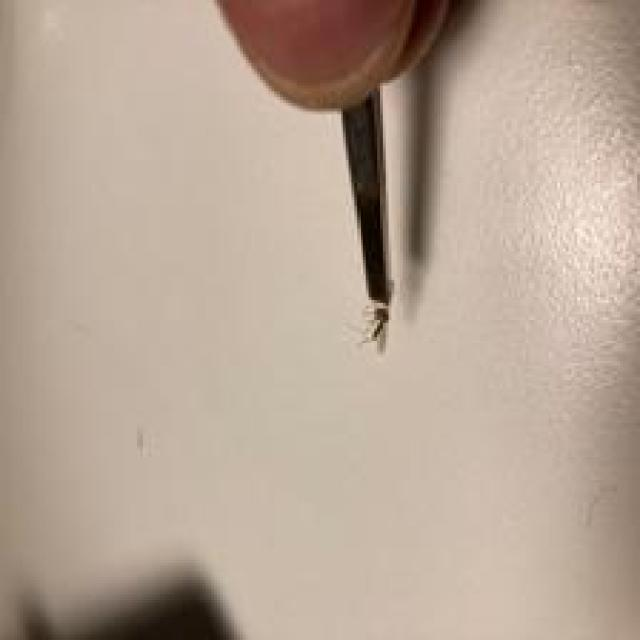Culex: (204, 0, 472, 354)
